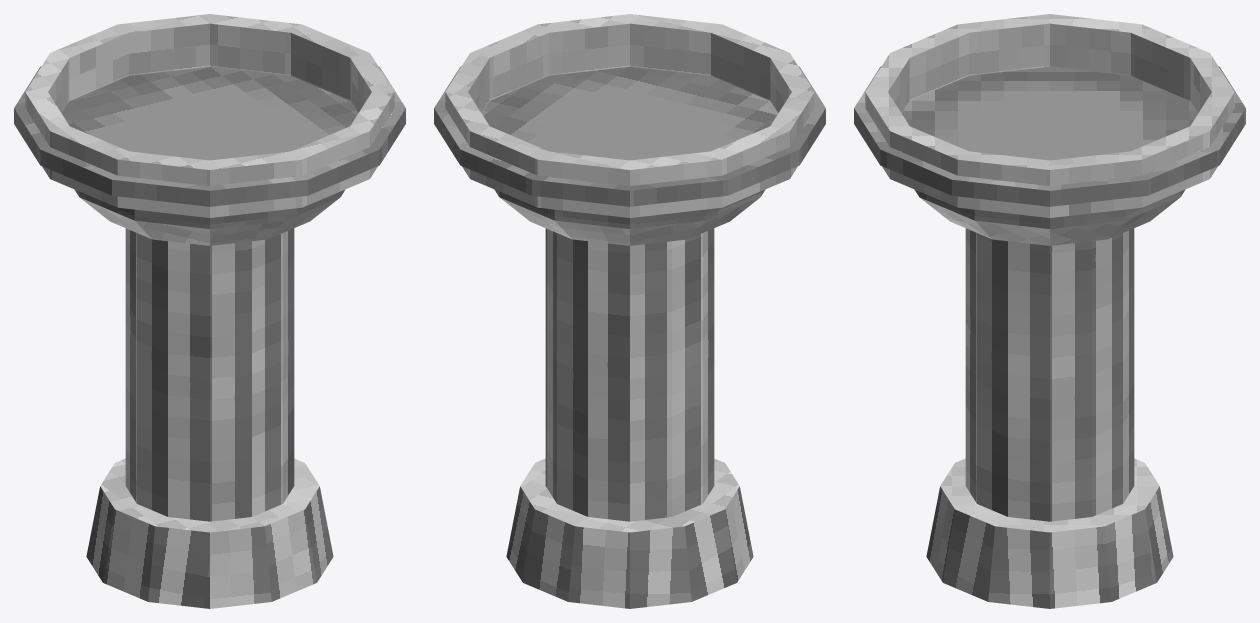
File: Checkpoint.fbx
3 renders of one model, left to right at view 1: azimuth 30°, elevation 25°; view 2: azimuth 150°, elevation 25°; view 3: azimuth 270°, elevation 25°, orthographic.
Parts seen in each view (by area): view 1: Cylinder.028; view 2: Cylinder.028; view 3: Cylinder.028.
Part boxes in pixels (bbox=[...]): Cylinder.028: bbox=[14, 14, 405, 608]; Cylinder.028: bbox=[434, 14, 825, 608]; Cylinder.028: bbox=[854, 14, 1245, 608].
Size of the model in its own units: 106 by 139 by 106.
Materials: 1 (1 with a texture image).
